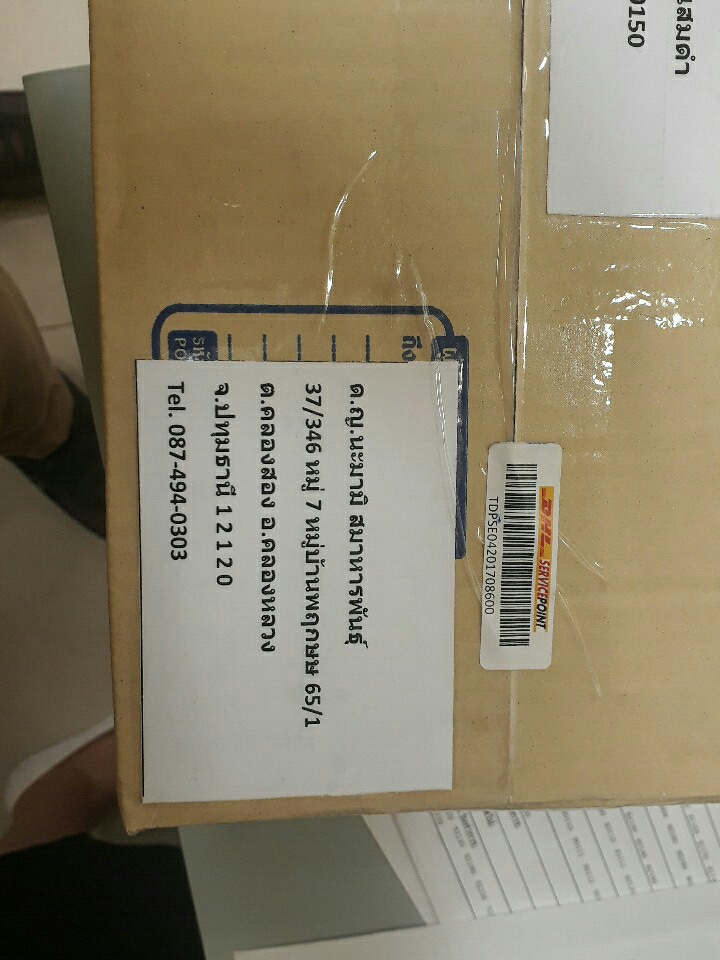ba: (477, 437, 568, 687)
txt: (158, 374, 377, 747)
